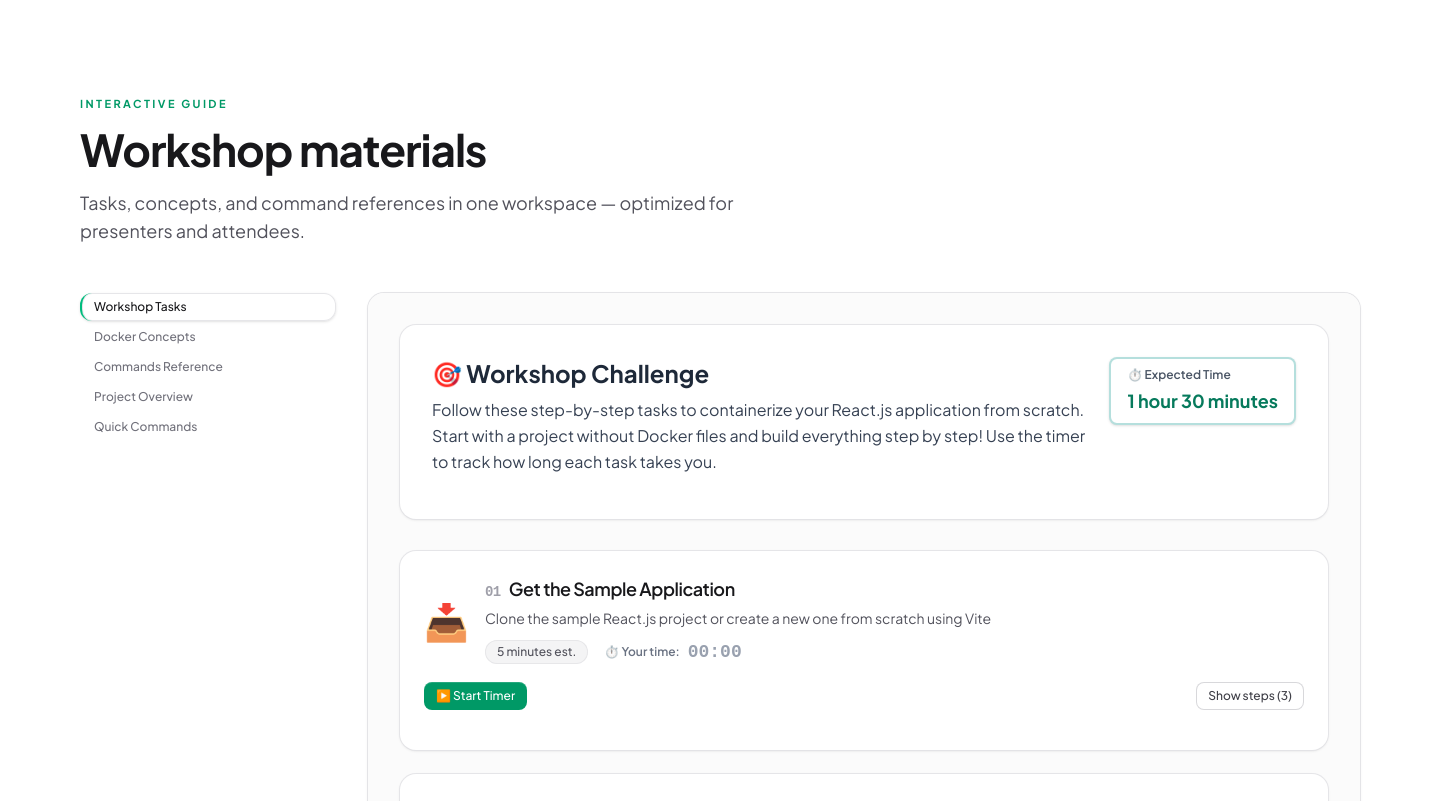
it: QuickStart Component › switches to Quick Commands tab when clicked
Click the tab "Quick Commands".
click(208, 427)  # box [80,413,336,441]
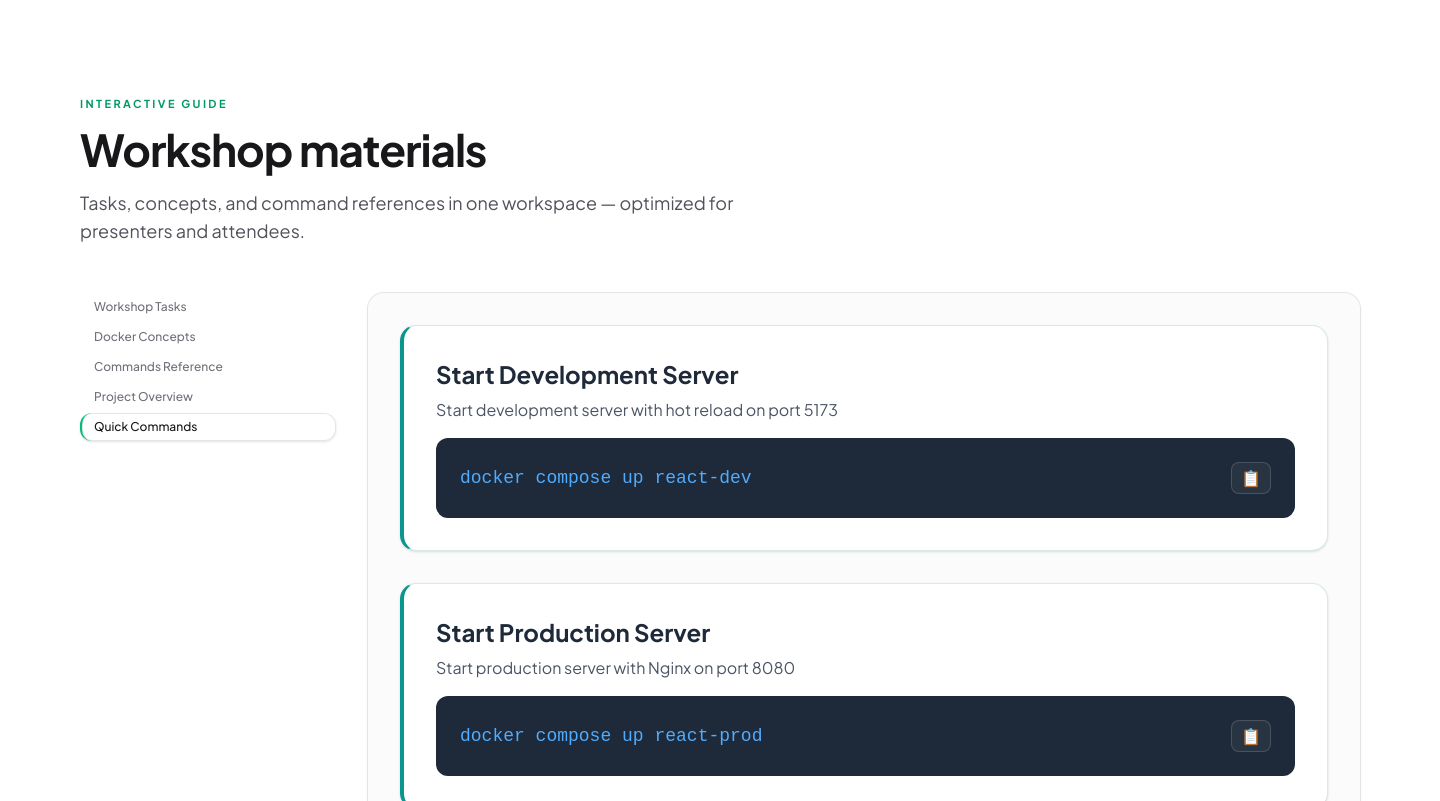
Check: the heading "Start Development Server" is shown, box [436,359,738,389]
